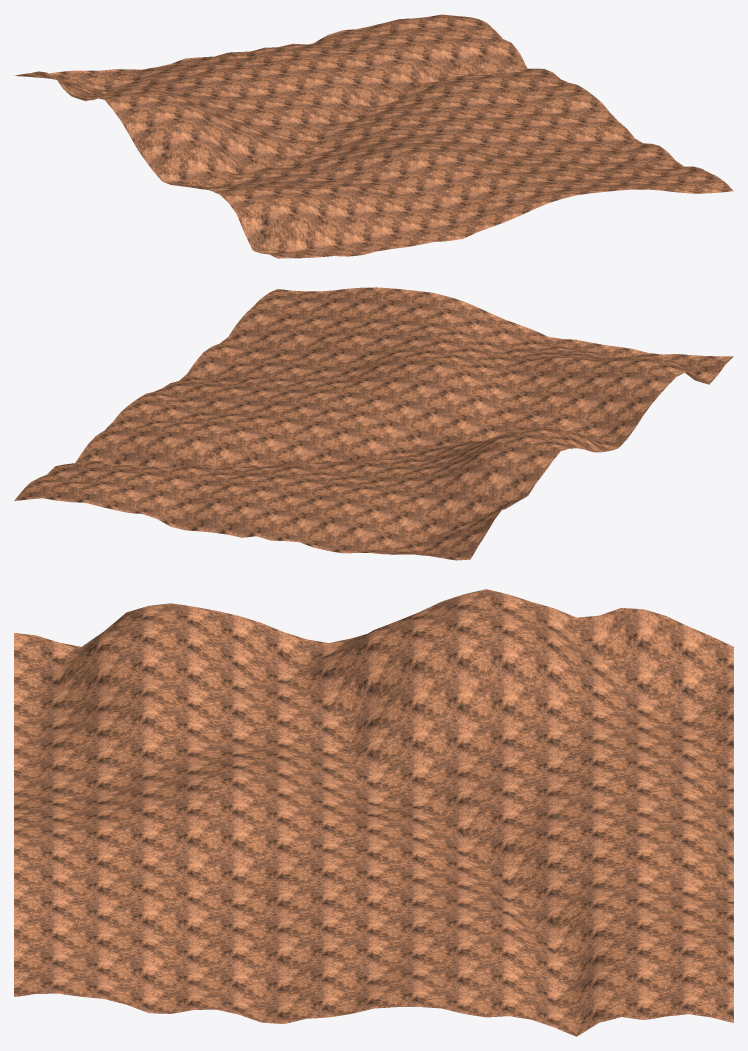
The model's file is terrain_02_00.dae.
The picture shows the model from 3 angles, top to bottom: view 1: azimuth 30°, elevation 25°; view 2: azimuth 150°, elevation 25°; view 3: azimuth 270°, elevation 25°; orthographic projection. The views are drawn at different scales.
Visible parts, largest first — view 1: terrain_02_00-node; view 2: terrain_02_00-node; view 3: terrain_02_00-node.
Boxes of the visible parts, x1,y1,x2,y2 form: terrain_02_00-node: (14, 14, 733, 258); terrain_02_00-node: (14, 287, 733, 560); terrain_02_00-node: (14, 589, 733, 1036).
Size of the model in its own units: 128 by 128 by 28.13.
1 material, 1 textured.
